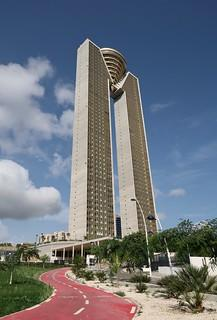building: (68, 36, 169, 274)
